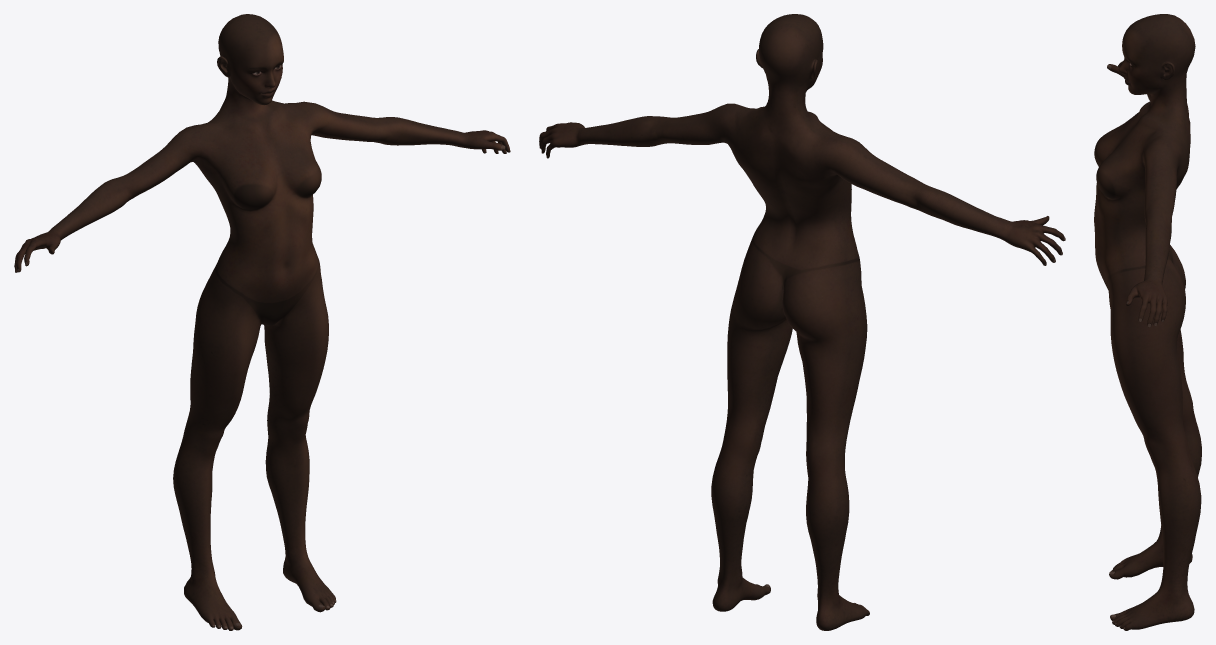
3 views of the same model, side by side, from view 1: azimuth 30°, elevation 25°; view 2: azimuth 150°, elevation 25°; view 3: azimuth 270°, elevation 25° (orthographic). The views are drawn at different scales.
Visible parts, largest first — view 1: mesh_character_m.001; view 2: mesh_character_m.001; view 3: mesh_character_m.001.
Boxes of the visible parts, x1,y1,x2,y2 form: mesh_character_m.001: (14, 14, 510, 630); mesh_character_m.001: (539, 14, 1065, 630); mesh_character_m.001: (1094, 14, 1201, 630).
Bounding box in the file's own units: 1.6 × 1.8 × 0.3029.
1 material, 1 textured.
